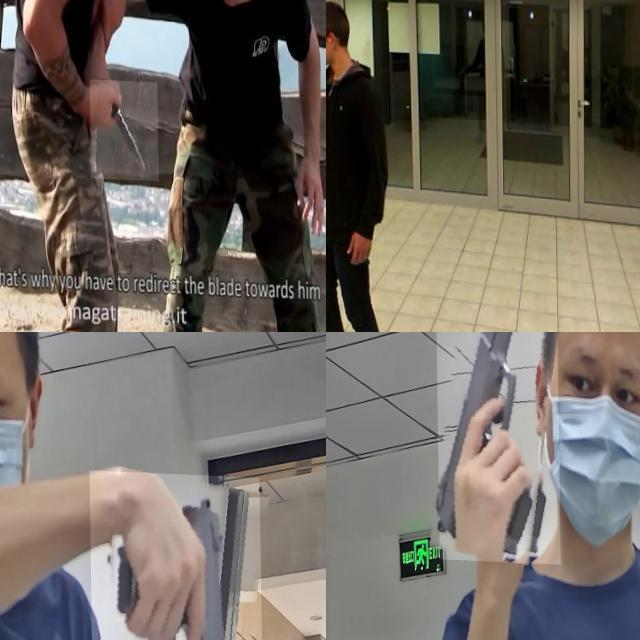-: (89, 77, 158, 178)
gun-knife-thesis - v11 Yolov5 augmented: (88, 466, 262, 640), (435, 332, 559, 561), (326, 163, 344, 206)
